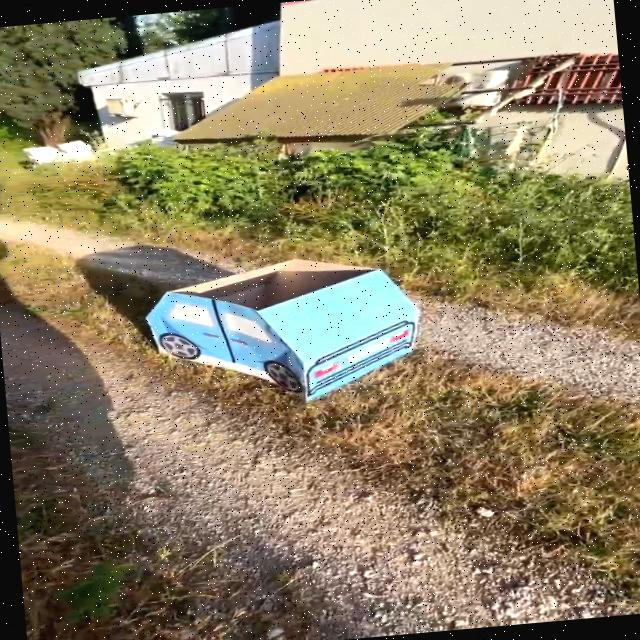blue_car: (68, 213, 445, 430)
